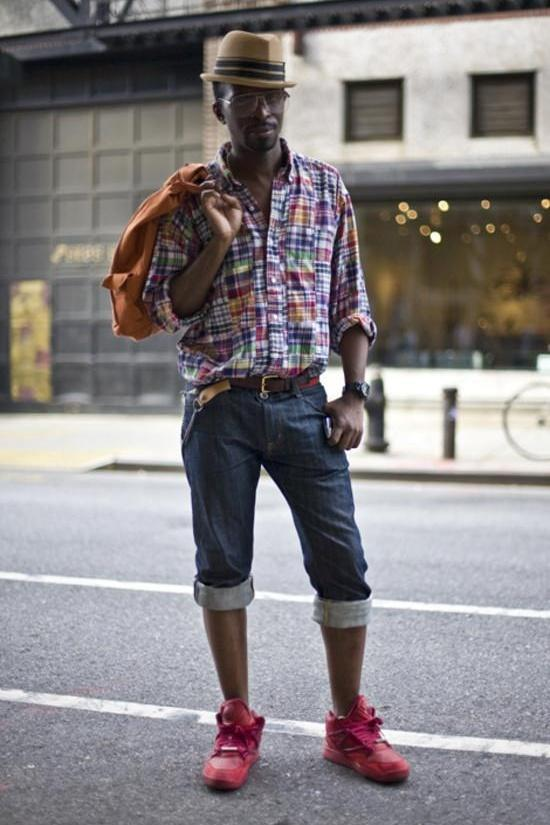shirt: (146, 138, 376, 384)
short: (180, 375, 370, 628)
